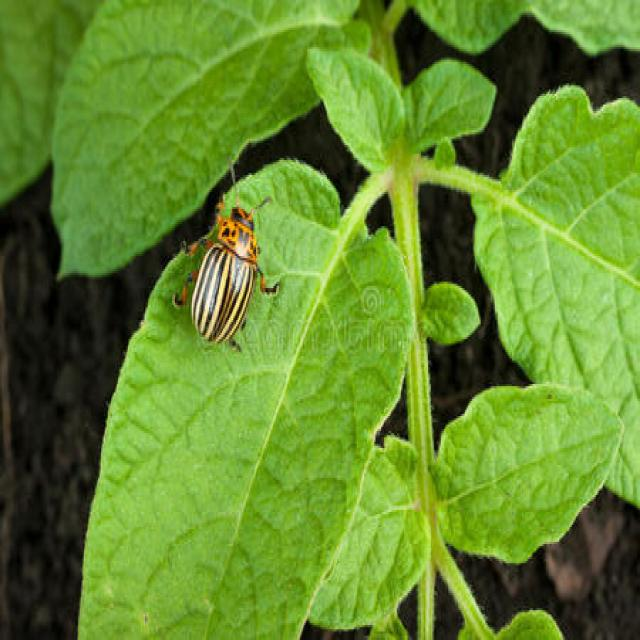ShuCaiHuaBanChong-Grown-: (180, 186, 283, 370)
